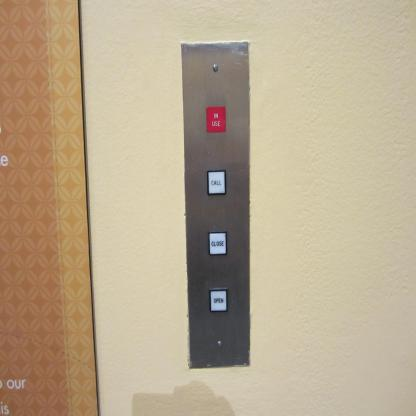text_CALL CANCEL: (206, 170, 226, 196)
text_CLOSE DOOR: (208, 229, 226, 256)
text_INUSE: (204, 106, 226, 133)
text_OPEN DOOR: (209, 288, 228, 312)
